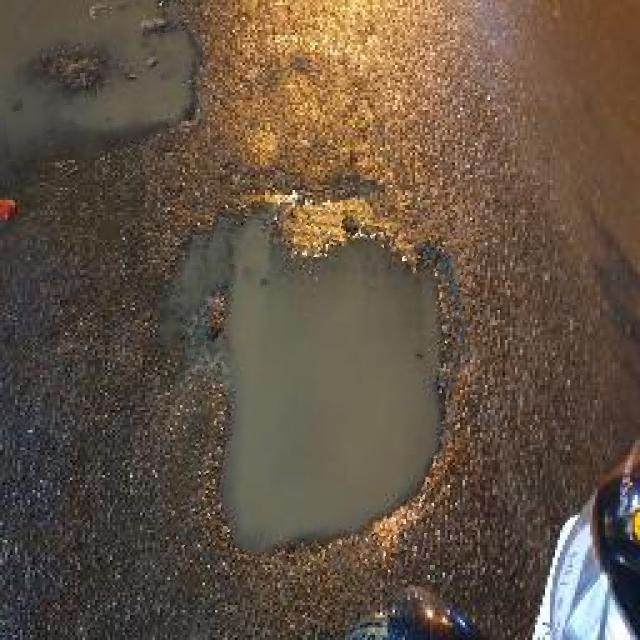puddle: (175, 205, 468, 579), (1, 1, 204, 156)
